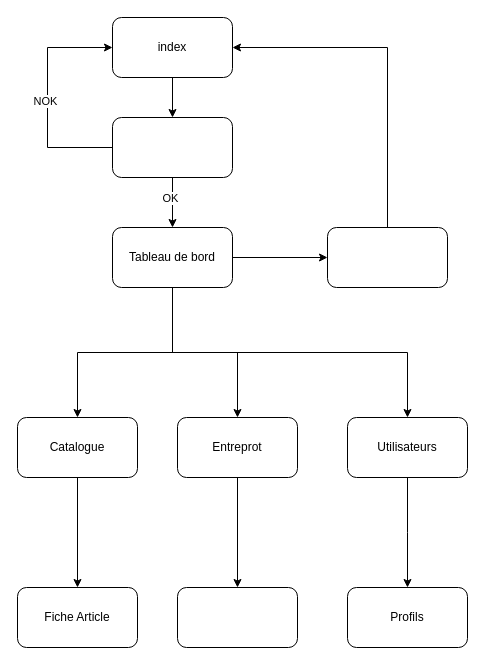
This 485x665 diagram has some shape labels left out. The centre of each missing label's shape, as x and y in pixels:
"Connexion" belongs at (172,147).
"Déconnexion" belongs at (387,257).
"Stock" belongs at (237,617).
